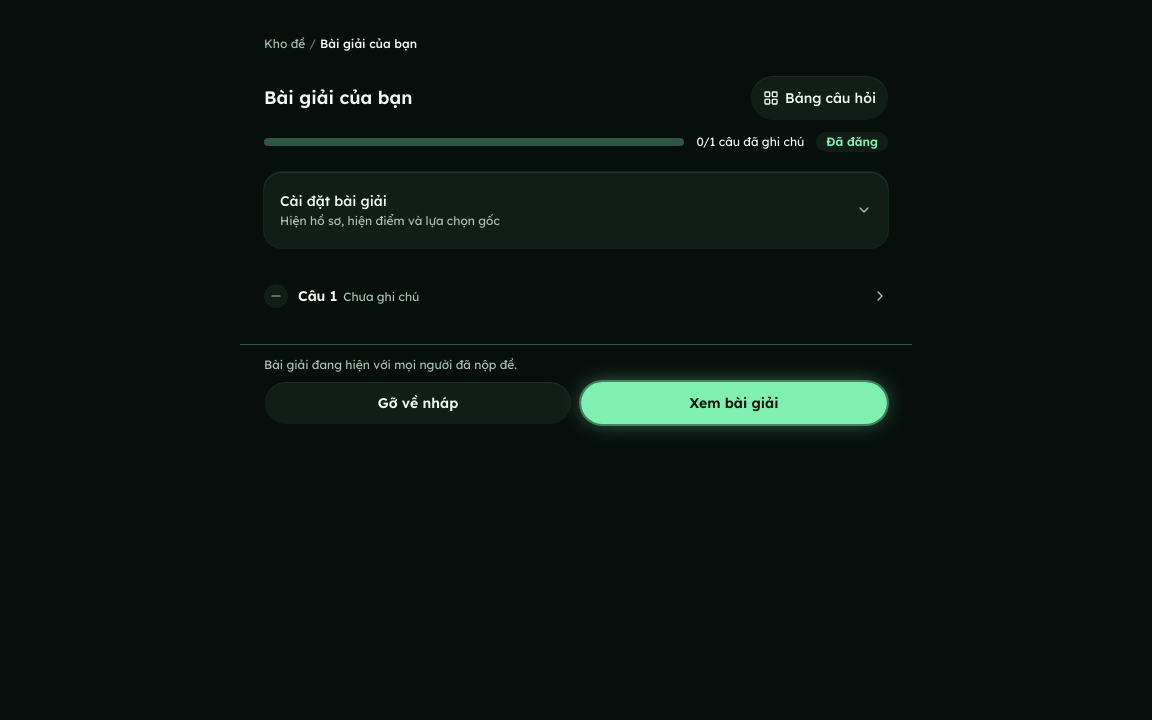
it: SolutionEditorScreen — NoteSheet, dưới 15 từ trên nháp/đã đăng (Required Test #7, Failure Mode #3) › bài đã đăng + 0 từ: không gọi saveSolution, hiện lỗi, chữ không đổi
This screenshot has width=1152, height=720.
Click the button with aria-label "Câu 1," at (318, 296), box [264,268,888,324]
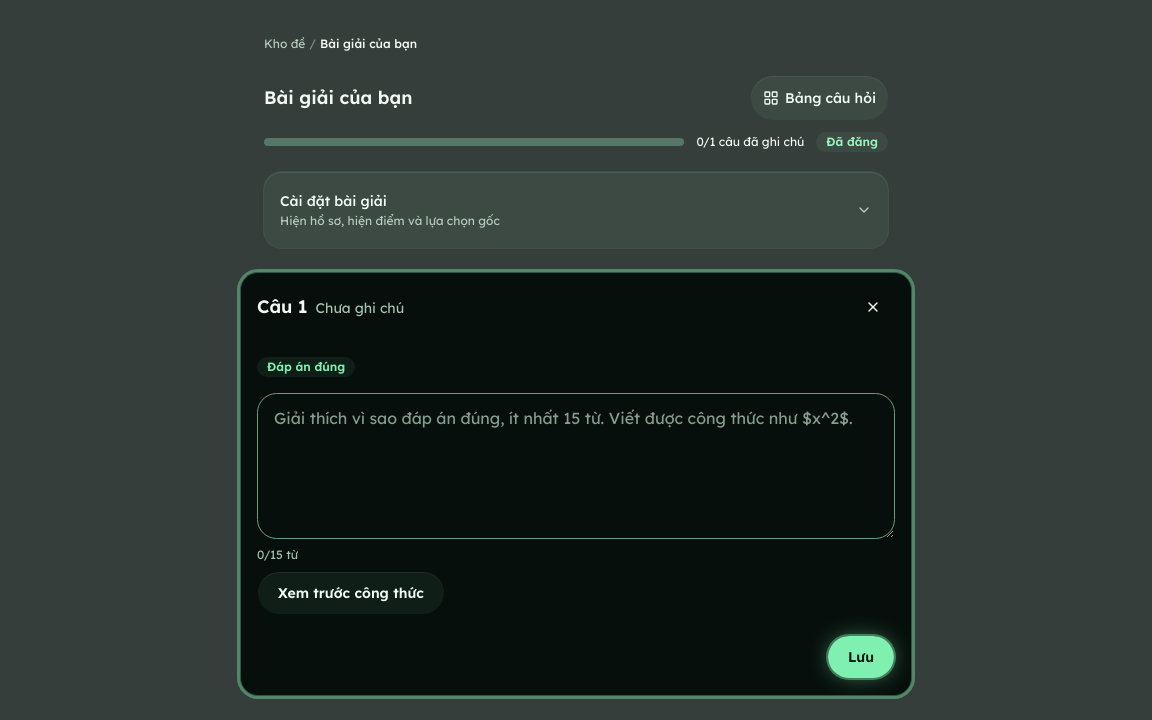
Click the button "Lưu" at (861, 657), box [827,635,895,679]
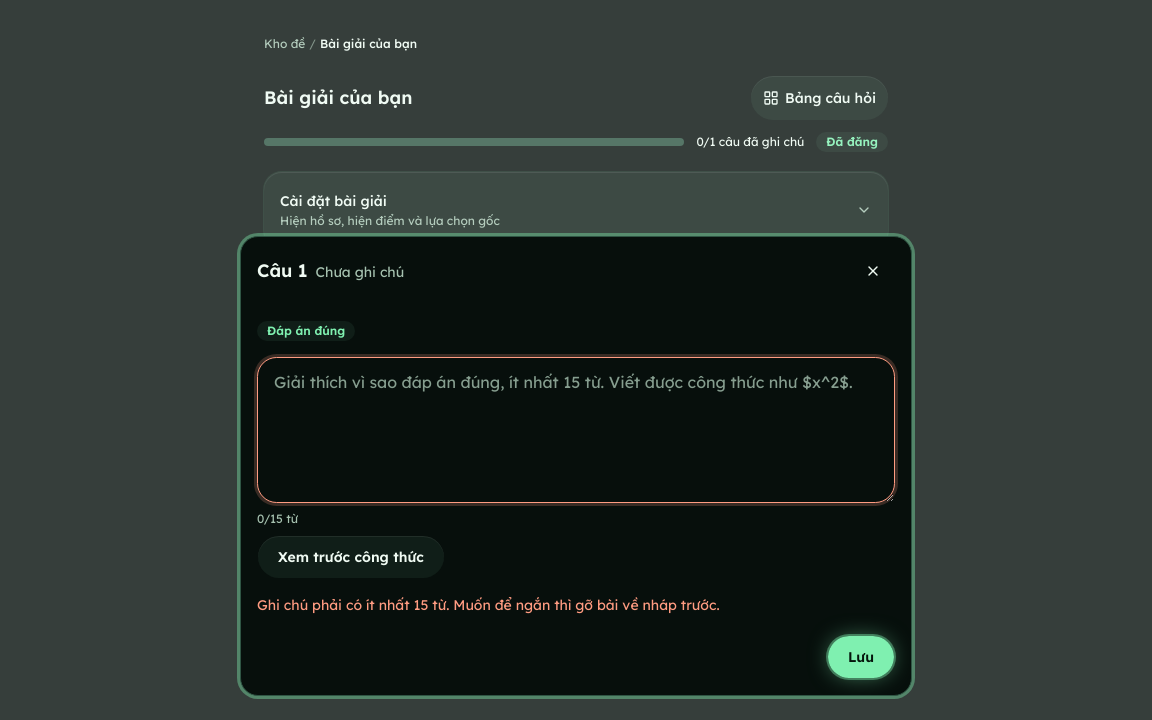
Expected: the text box is empty, [257,357,895,503]
Expected: the message reads "Ghi chú phải có ít nhất 15 từ. Muốn để ngắn thì gỡ bài về nháp trước.", [257,596,720,614]
